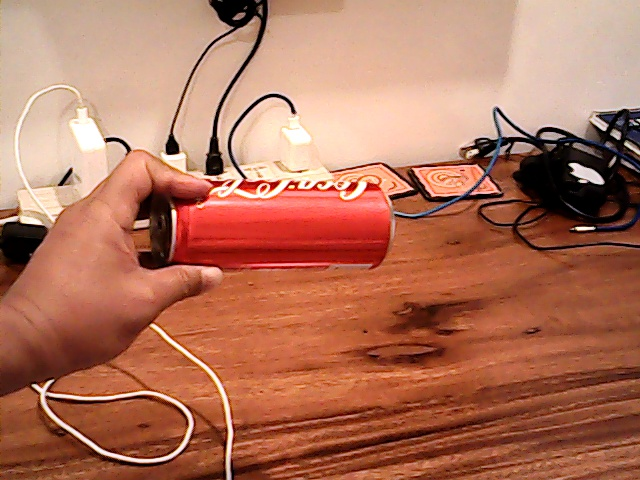Cola: (147, 163, 402, 265)
